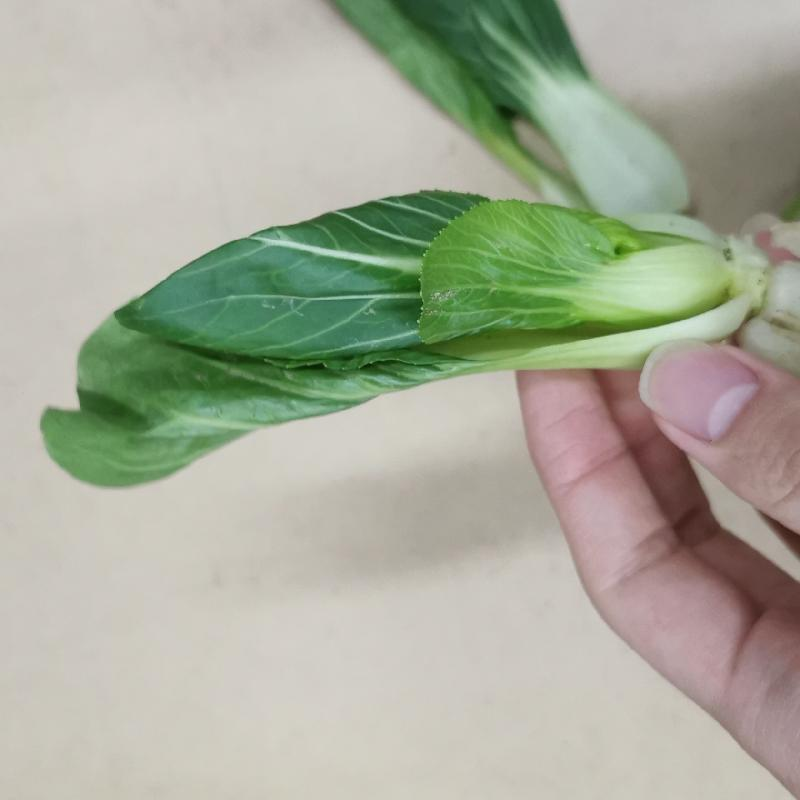green vegatable: (27, 178, 798, 486)
